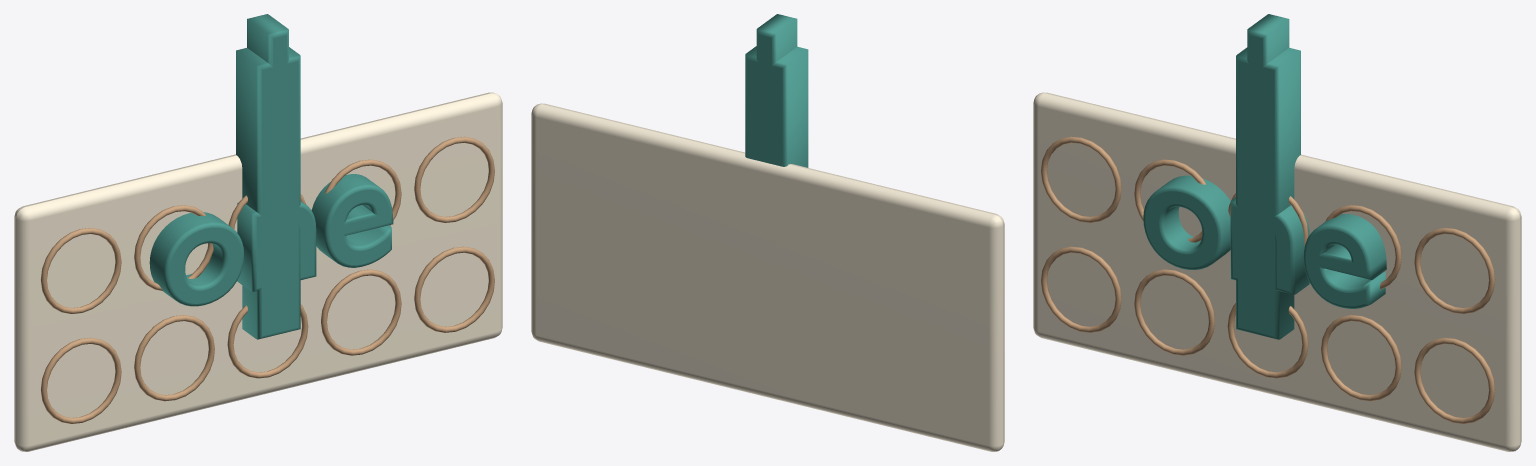
File: number-1.glb
3 views of the same model, side by side, from view 1: azimuth 30°, elevation 25°; view 2: azimuth 150°, elevation 25°; view 3: azimuth 330°, elevation 25° (orthographic). The views are drawn at different scales.
Parts seen in each view (by area): view 1: ten frame tray, number solid, number word, counting numeral, counting slot.009, counting slot.004, counting slot.005, counting slot.006, counting slot, counting slot.008, counting slot.007, counting slot.001 (+1 smaller); view 2: ten frame tray, number solid, counting numeral; view 3: ten frame tray, number word, number solid, counting numeral, counting slot, counting slot.005, counting slot.006, counting slot.009, counting slot.008, counting slot.004, counting slot.007, counting slot.003 (+1 smaller).
Boxes of the visible parts, <box> form: ten frame tray: <box>14,92,502,451</box>; number solid: <box>236,47,300,339</box>; number word: <box>149,174,393,306</box>; counting numeral: <box>247,14,288,135</box>; counting slot.009: <box>414,246,494,332</box>; counting slot.004: <box>414,136,494,222</box>; counting slot.005: <box>40,337,121,423</box>; counting slot.006: <box>134,315,214,401</box>; counting slot: <box>40,228,121,313</box>; counting slot.008: <box>321,269,401,355</box>; counting slot.007: <box>227,304,308,378</box>; counting slot.001: <box>134,205,213,290</box>; ten frame tray: <box>531,103,1004,451</box>; number solid: <box>745,46,808,167</box>; counting numeral: <box>756,14,797,130</box>; ten frame tray: <box>1033,92,1521,451</box>; number word: <box>1143,175,1386,308</box>; number solid: <box>1236,47,1300,339</box>; counting numeral: <box>1247,14,1289,137</box>; counting slot: <box>1041,136,1121,222</box>; counting slot.005: <box>1041,246,1121,332</box>; counting slot.006: <box>1134,269,1214,355</box>; counting slot.009: <box>1414,337,1495,423</box>; counting slot.008: <box>1321,315,1401,401</box>; counting slot.004: <box>1414,228,1495,313</box>; counting slot.007: <box>1227,303,1308,378</box>; counting slot.003: <box>1325,205,1401,289</box>.
Size of what is drawn, in the model's own units: 2.08 by 1.54 by 0.2.
